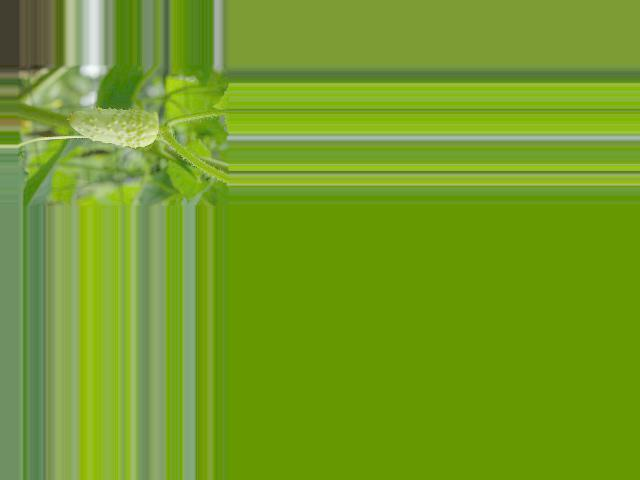cucumber: (66, 108, 159, 148)
